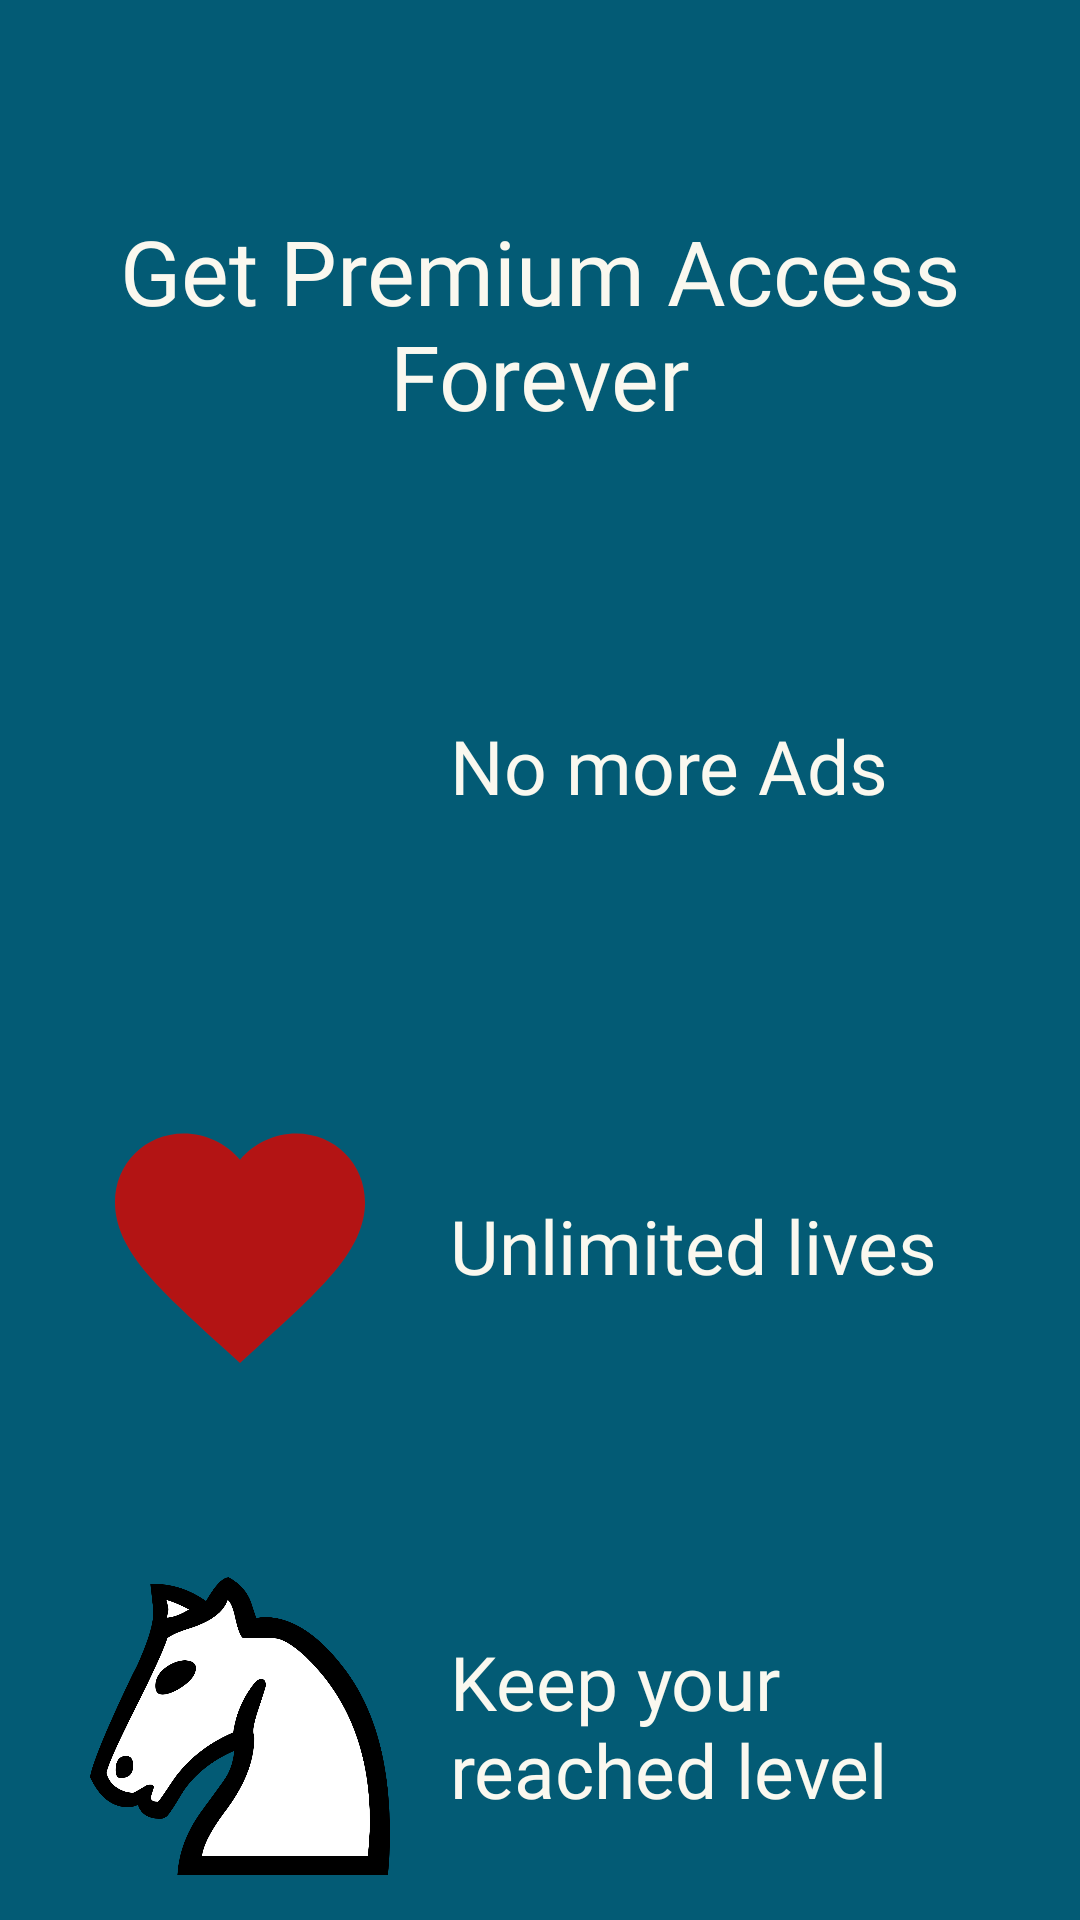

Where to tap for icons on this 1080px x 1920px app screen, as (x,y):
horse: (240,1726)
life: (240,1248)
